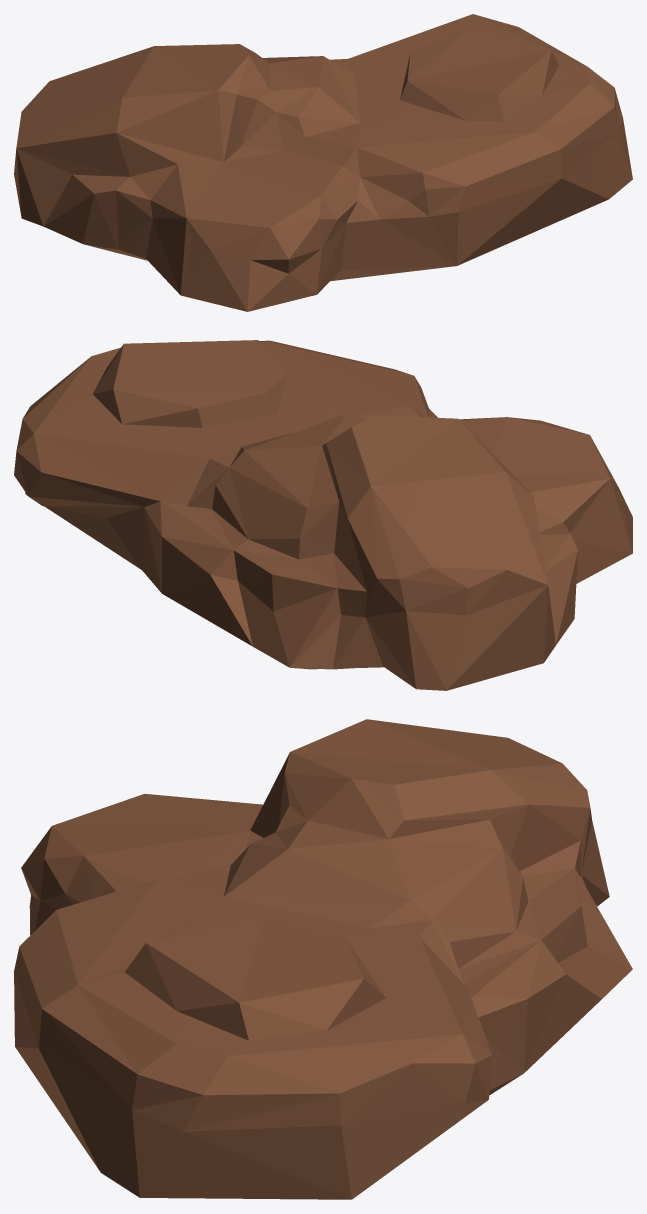
The model's file is SM_Env_RockFlat_05.glb.
3 renders of one model, top to bottom at view 1: azimuth 30°, elevation 25°; view 2: azimuth 150°, elevation 25°; view 3: azimuth 270°, elevation 25°, orthographic. The views are drawn at different scales.
Visible parts, largest first — view 1: SM_Env_RockFlat_05; view 2: SM_Env_RockFlat_05; view 3: SM_Env_RockFlat_05.
Boxes of the visible parts, x1,y1,x2,y2 form: SM_Env_RockFlat_05: (14,14,632,311); SM_Env_RockFlat_05: (14,340,632,690); SM_Env_RockFlat_05: (14,719,632,1199).
Size of the model in its own units: 7.49 by 2.45 by 5.59.
Materials: 1 (1 with a texture image).
